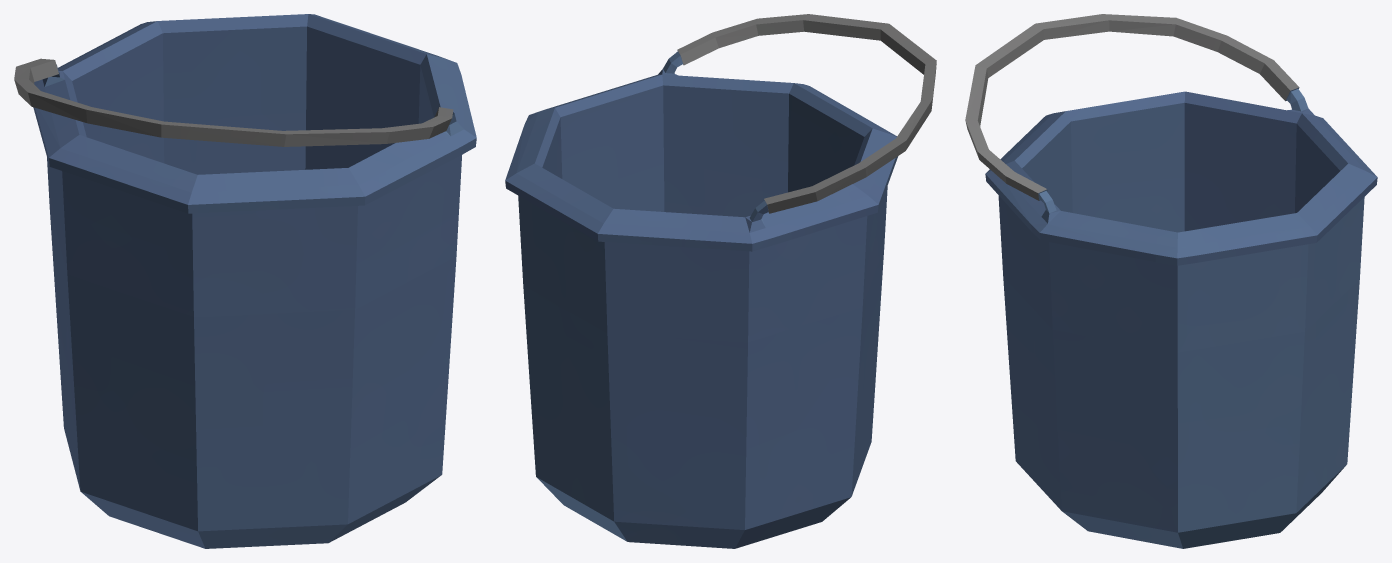
File: bucket_1.obj
3 views of the same model, side by side, from view 1: azimuth 30°, elevation 25°; view 2: azimuth 150°, elevation 25°; view 3: azimuth 270°, elevation 25° (orthographic). The views are drawn at different scales.
Parts seen in each view (by area): view 1: bucket_1_Mesh; view 2: bucket_1_Mesh; view 3: bucket_1_Mesh.
Boxes of the visible parts, x1,y1,x2,y2 form: bucket_1_Mesh: (14,14,476,548); bucket_1_Mesh: (505,14,936,548); bucket_1_Mesh: (965,14,1377,548).
Size of the model in its own units: 0.3989 by 0.4151 by 0.3934.
